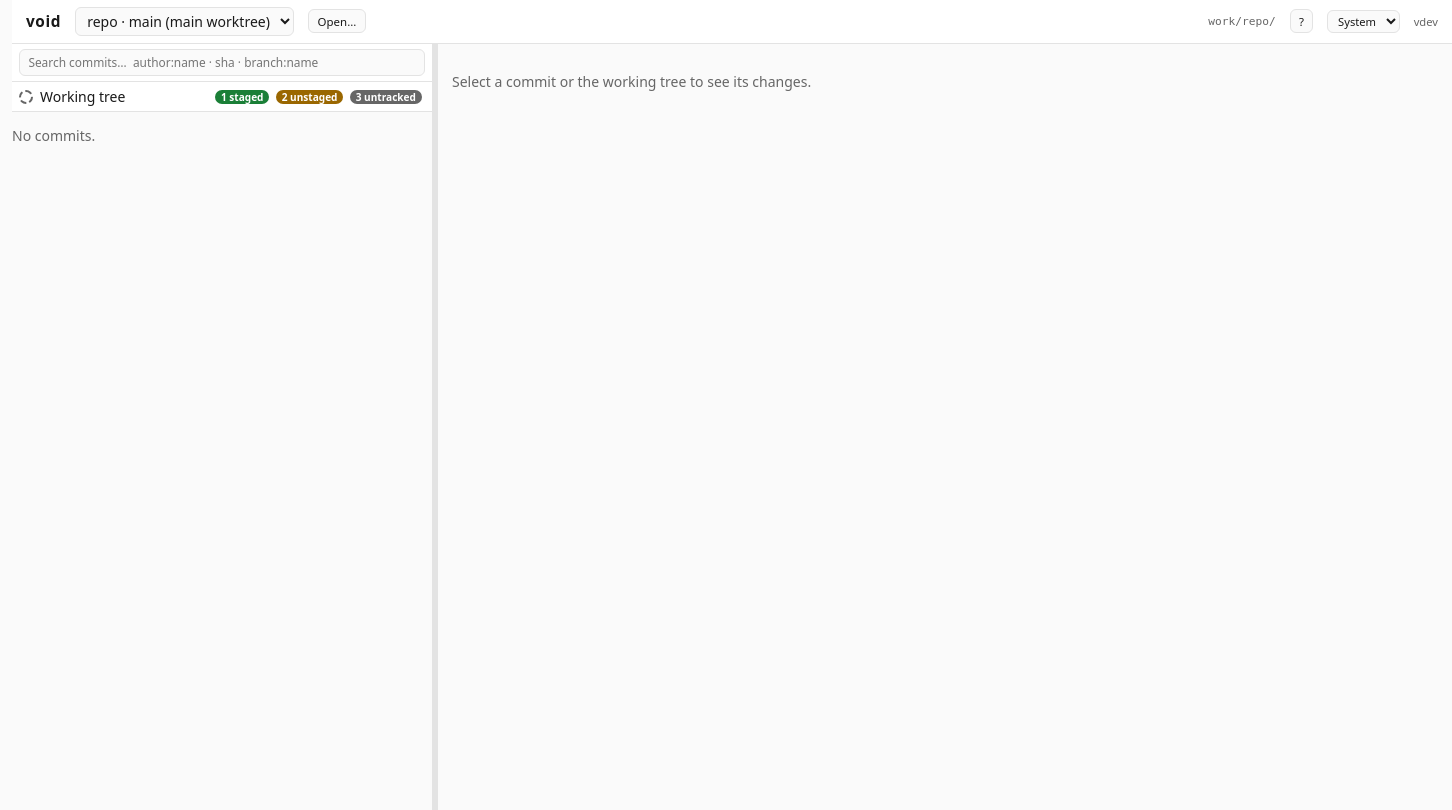
Test: App › switching worktree reloads history for that worktree and clears the selection
This screenshot has width=1452, height=810.
Click the text "Working tree" at (83, 97), box [40, 87, 125, 106]
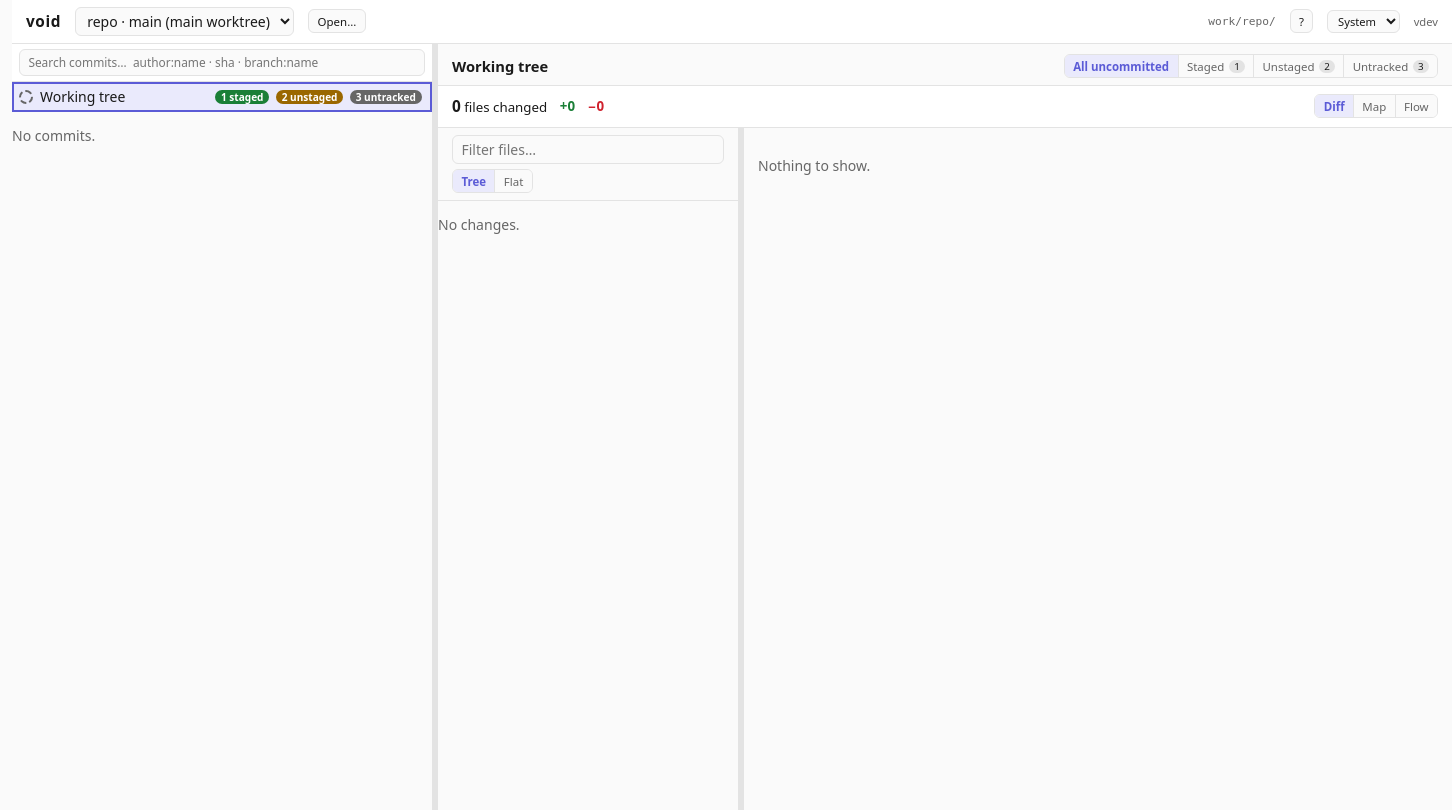
Check: the heading "Working tree" is shown, box [452, 56, 548, 76]
Select "wt-feature · feature" in the dropdown named "Worktree" at (185, 21), box [75, 7, 294, 36]
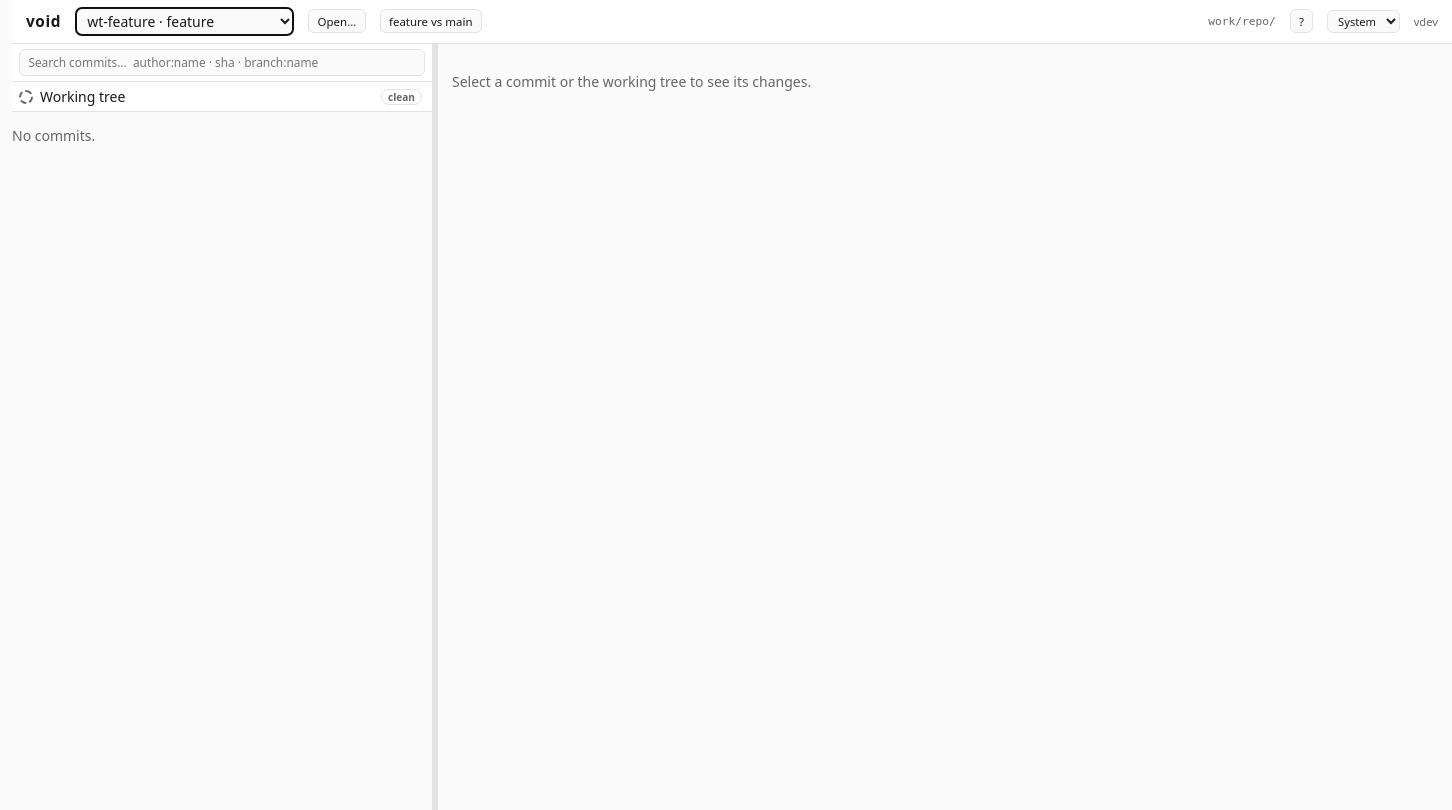
Check: the text "Select a commit or the working tree to see its changes." is shown, box [452, 72, 811, 91]
